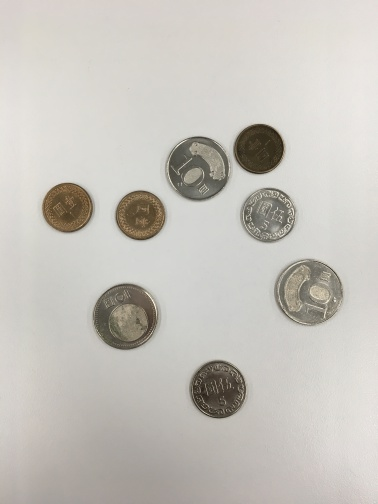1 dollar: (231, 114, 293, 181), (110, 184, 173, 248), (37, 177, 97, 238)
10 dollar: (74, 267, 172, 357), (264, 253, 349, 340), (156, 120, 235, 203)
5 dollar: (182, 349, 262, 426), (234, 180, 305, 247)
